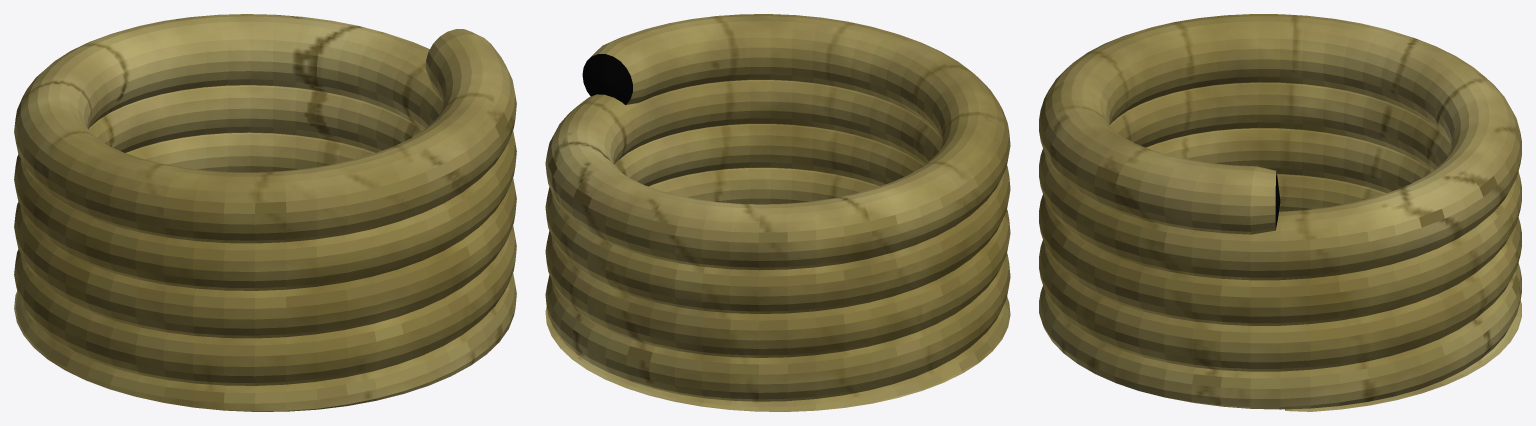
Rendered from rope.fbx.
The picture shows the model from 3 angles, left to right: view 1: azimuth 30°, elevation 25°; view 2: azimuth 150°, elevation 25°; view 3: azimuth 270°, elevation 25°; orthographic projection. The views are drawn at different scales.
Parts seen in each view (by area): view 1: rope:ZBrush_defualt_group; view 2: rope:ZBrush_defualt_group; view 3: rope:ZBrush_defualt_group.
Part boxes in pixels (<box>): rope:ZBrush_defualt_group: <box>14,14,516,411</box>; rope:ZBrush_defualt_group: <box>545,14,1010,411</box>; rope:ZBrush_defualt_group: <box>1039,14,1521,411</box>.
Bounding box in the file's own units: 2.69 × 1.4 × 2.68.
